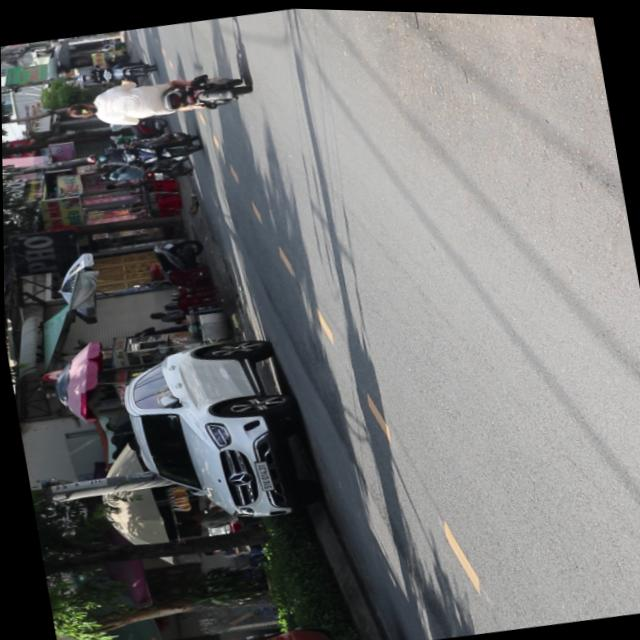licenseplate: (59, 61, 253, 138)
motorcyclist: (64, 101, 94, 122)
